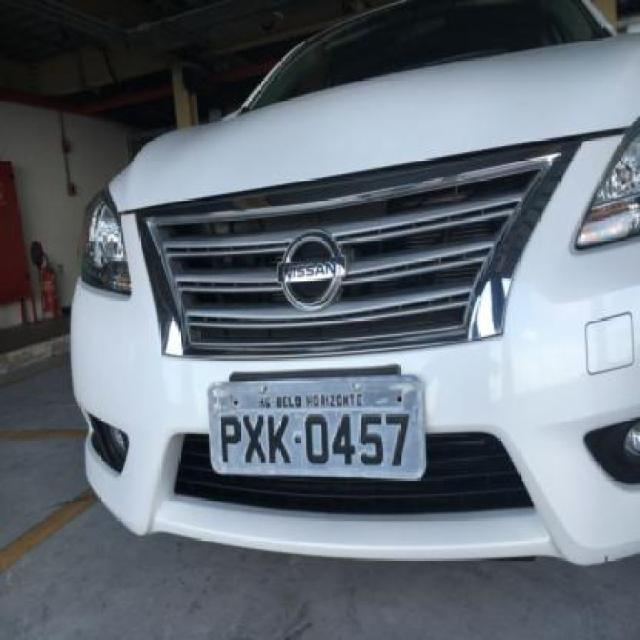old_plate: (200, 373, 433, 485)
